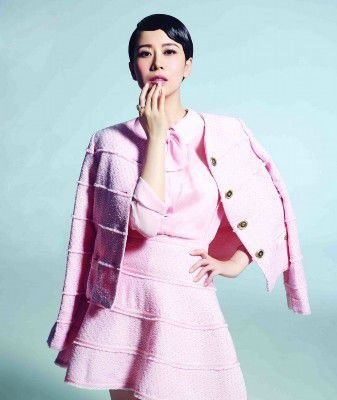face: (134, 27, 184, 97)
